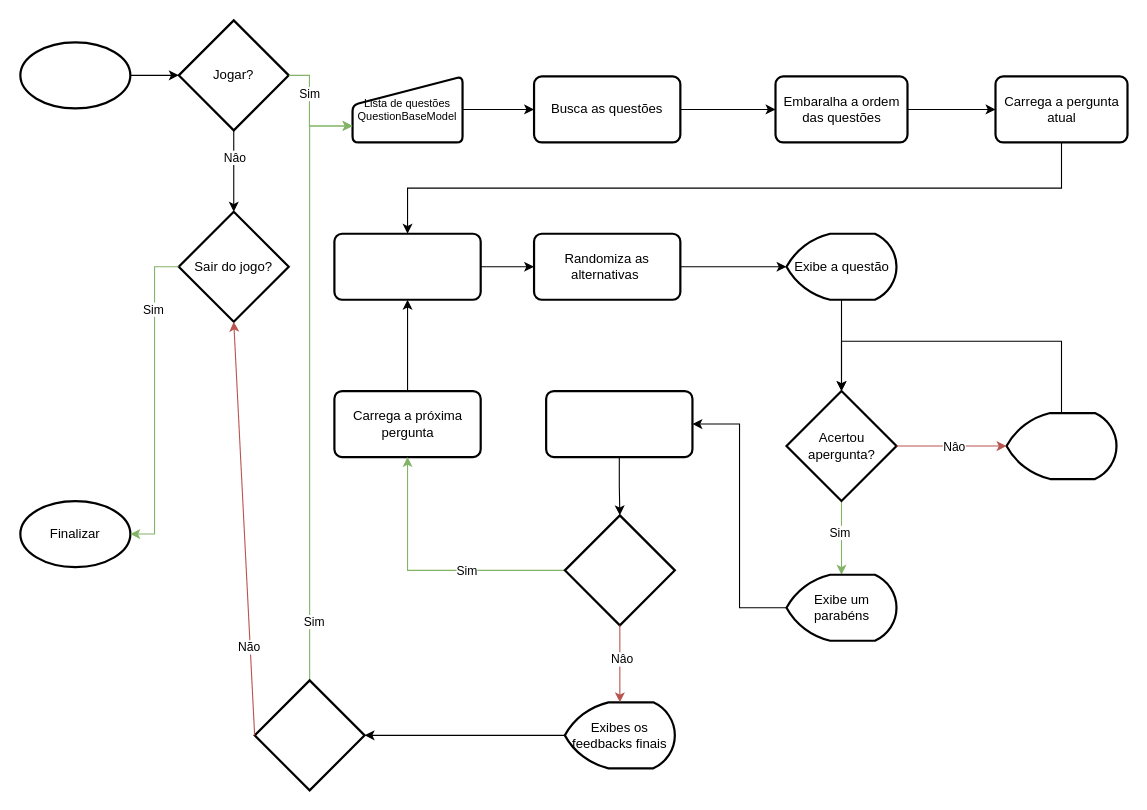
The diagram is 1147 pixels wide and 810 high, and some of its shapes have lost their labels. The centre of each missing label's shape, as x and y in pixels:
"Carrega o motor da pergunta" belongs at pixel 407 266.
"Continuar jogando?" belongs at pixel 309 735.
"Exibe uma dica" belongs at pixel 1061 445.
"Existe uma próxima pergunta?" belongs at pixel 619 570.
"Iniciar" belongs at pixel 75 75.
"Soma os pontos" belongs at pixel 618 423.
